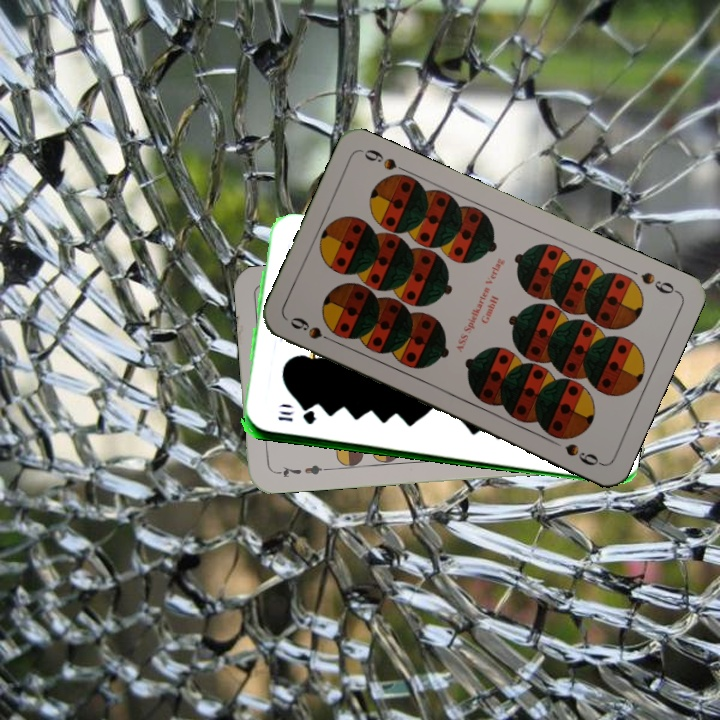E7: (271, 460, 330, 480)
G10: (274, 407, 318, 427)
S9: (286, 313, 341, 347), (637, 268, 681, 297)
